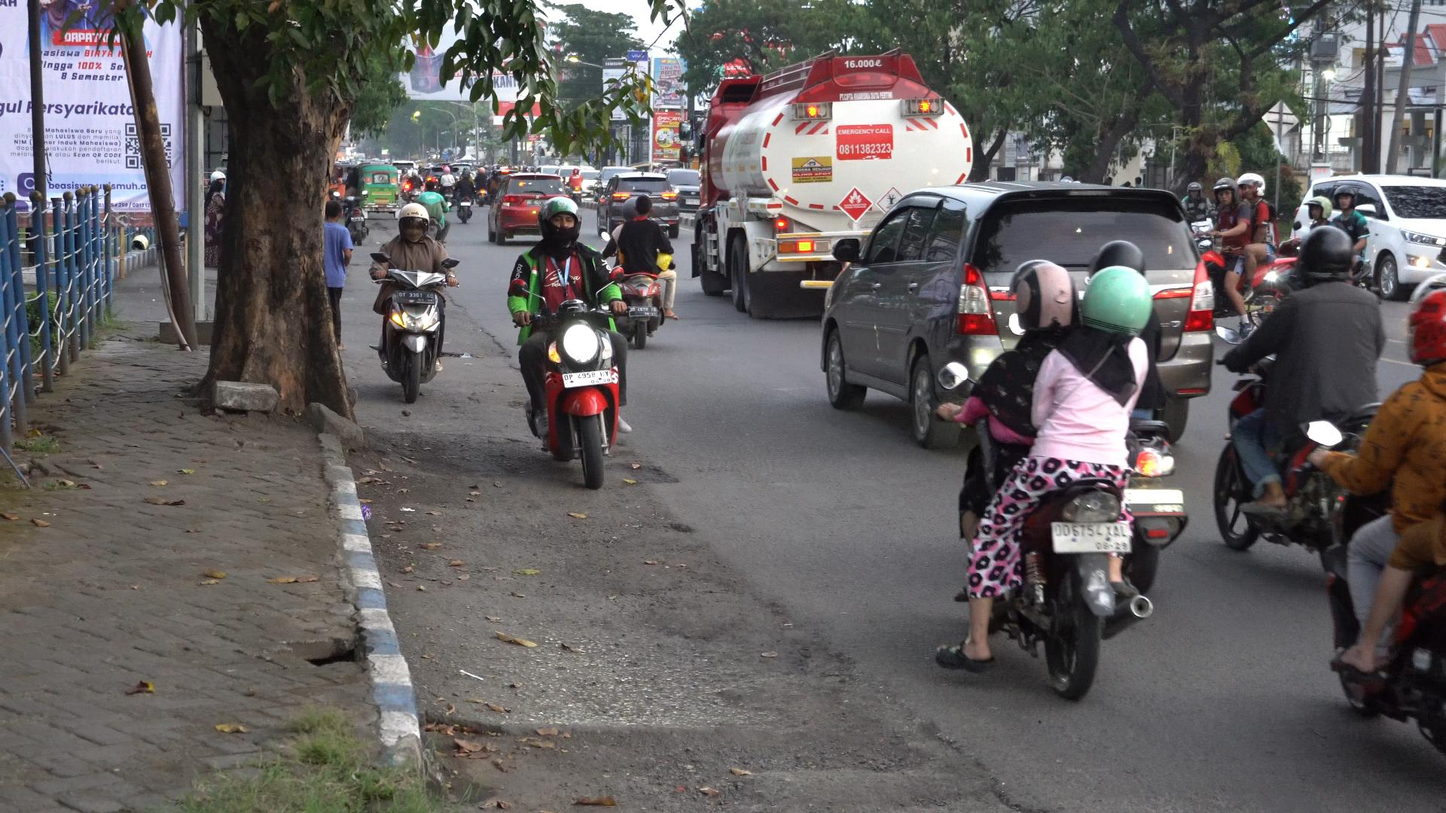number-plate: (557, 369, 615, 388), (394, 289, 438, 305)
